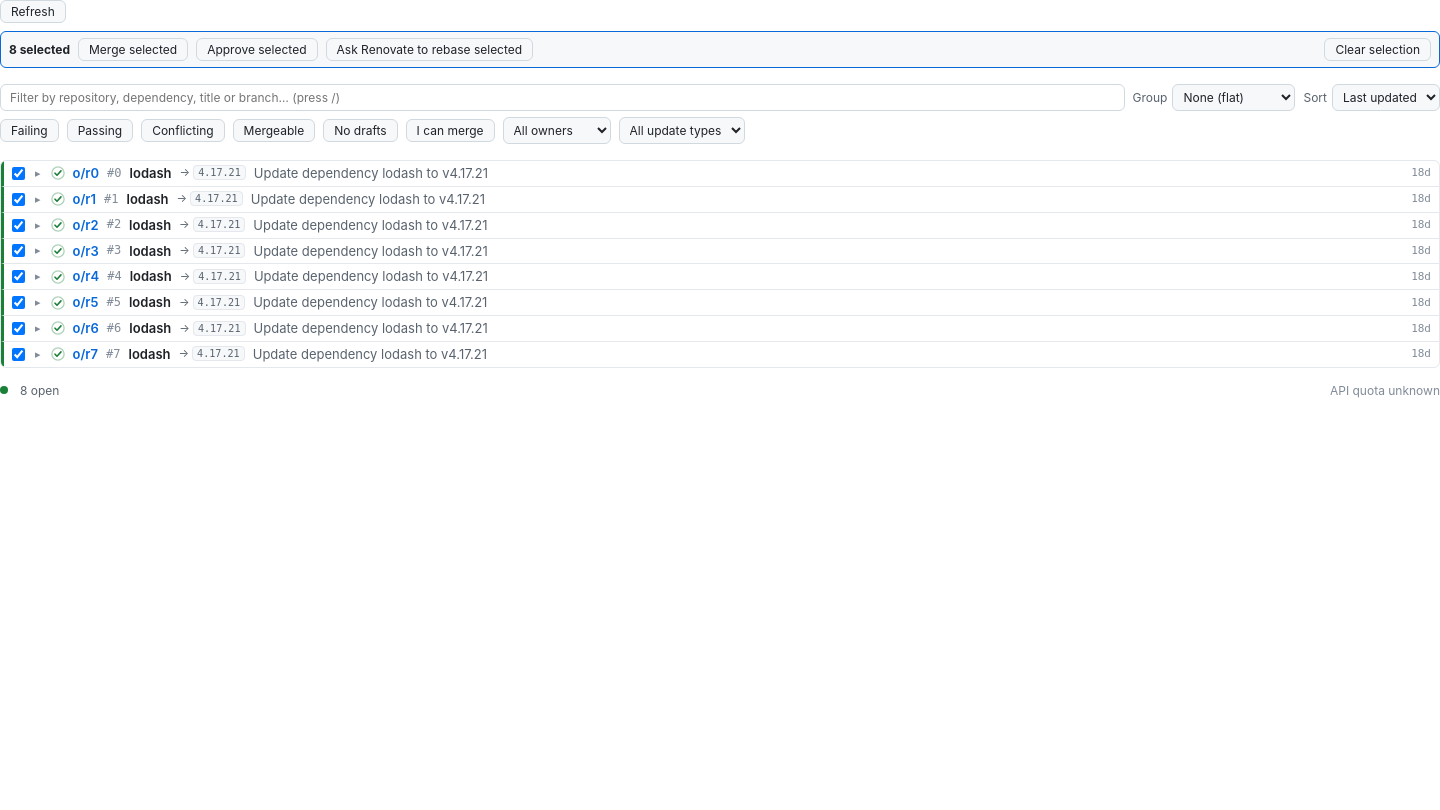
Test: Dashboard › actions › summarises a long list rather than printing a wall of names
Click the button "Approve selected": [257, 50] box [196,38,318,61]
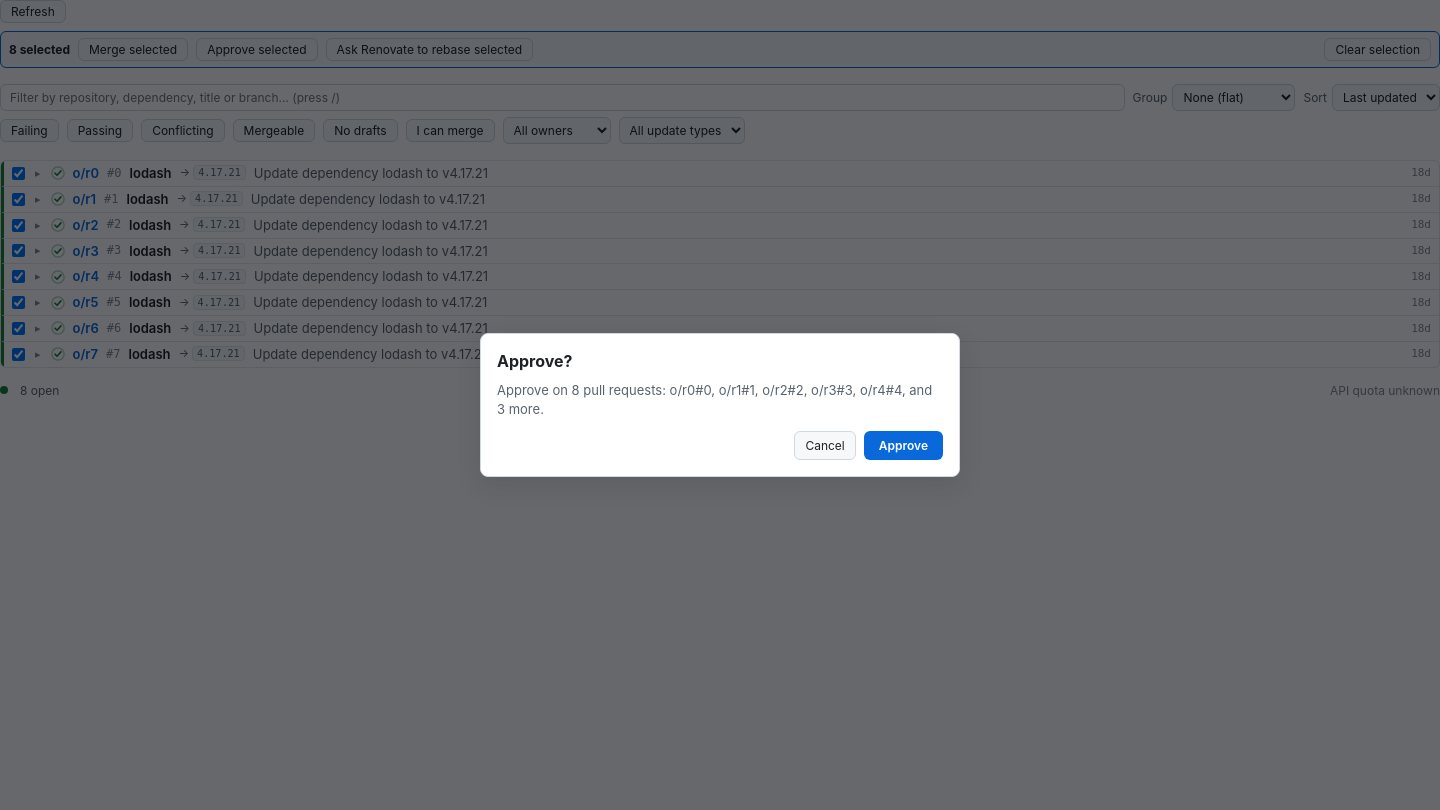
Expected: the dialog shows "and 3 more", [497,382,932,417]
